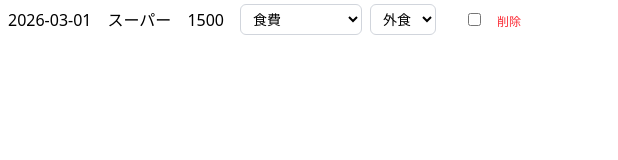
Test: EditableTransactionRow › 内容セルをクリックすると input が表示される
Click the button "スーパー" at (139, 20), box [108, 8, 171, 32]
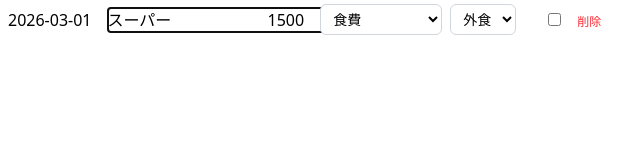
Expected: the field named "description" is shown, [108, 8, 338, 32]
